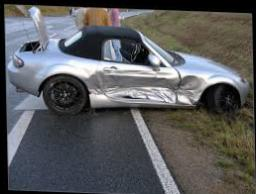Door: (97, 60, 184, 108)
Fender: (24, 53, 94, 78), (177, 67, 206, 108), (205, 70, 240, 81)
